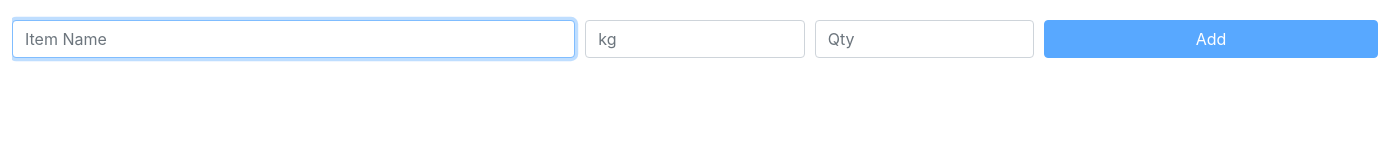
it: disables the add button until all fields are valid
expect the button "Add" is disabled: met, box [1044,20,1378,58]
Step 1. Type "Paper" into the field with placeholder "Item Name" → coordinates (294, 39), box [12,20,575,58]
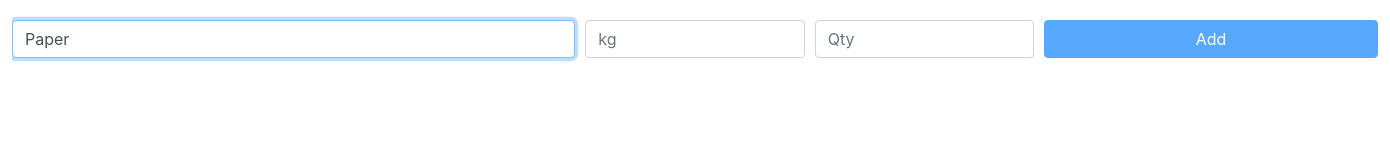
expect the button "Add" is disabled: met, box [1044,20,1378,58]
Step 2. Type "12" into the number field with placeholder "kg" → coordinates (695, 39), box [585,20,805,58]
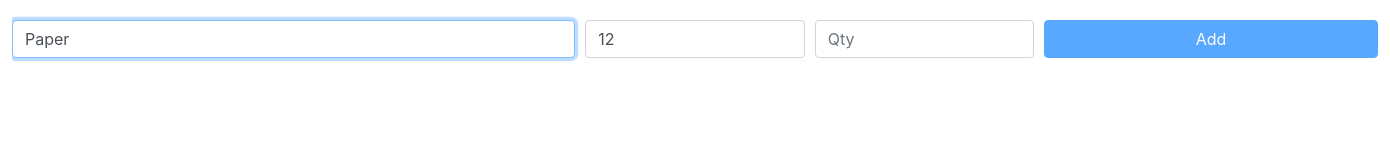
expect the button "Add" is disabled: met, box [1044,20,1378,58]
Step 3. Type "2" into the number field with placeholder "Qty" → coordinates (924, 39), box [815,20,1034,58]
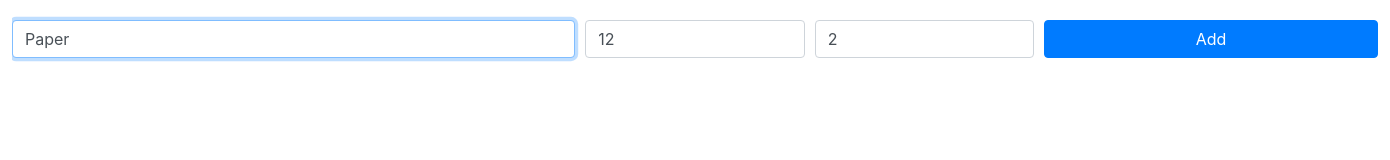
expect the button "Add" is enabled: met, box [1044,20,1378,58]
